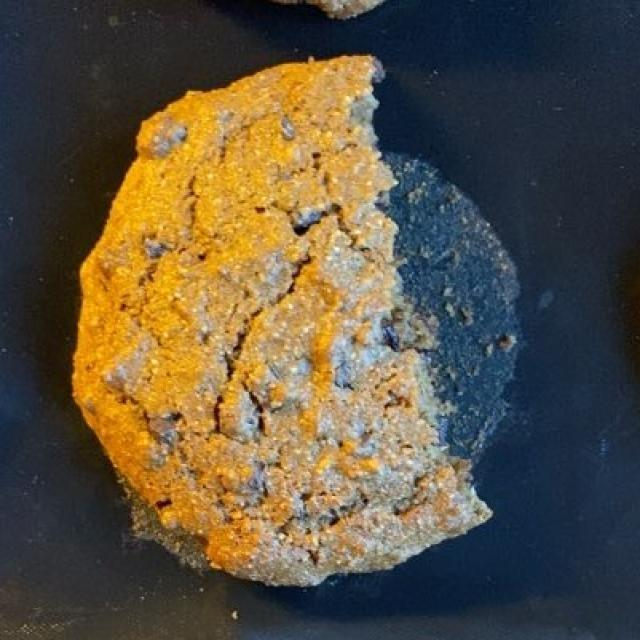cookies: (99, 60, 488, 593)
